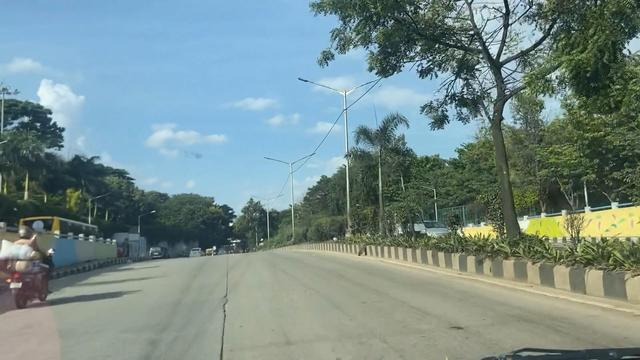LMV: (0, 224, 53, 305)
RoadDamages: (196, 303, 254, 356), (206, 255, 240, 297)
